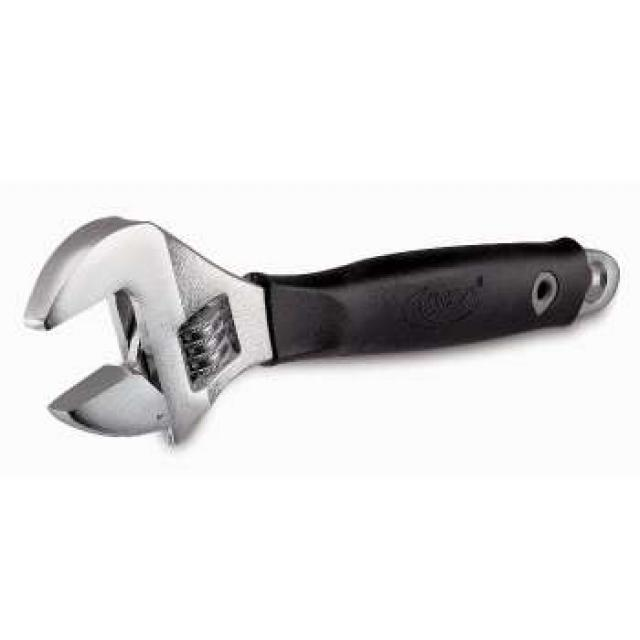wrench: (1, 198, 640, 466)
